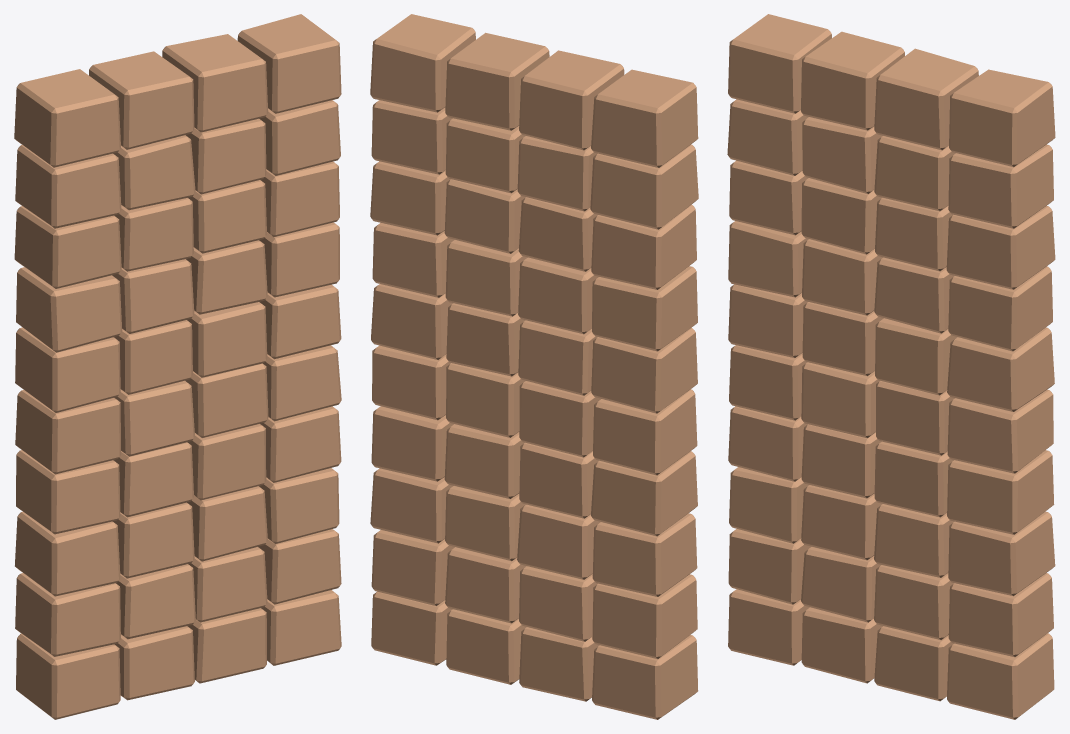
The model's file is wall_mud_brick_complete.glb.
3 views of the same model, side by side, from view 1: azimuth 30°, elevation 25°; view 2: azimuth 150°, elevation 25°; view 3: azimuth 330°, elevation 25° (orthographic).
Parts seen in each view (by area): view 1: wall_mud_brick_complete; view 2: wall_mud_brick_complete; view 3: wall_mud_brick_complete.
Part boxes in pixels (bbox=[...]): wall_mud_brick_complete: bbox=[14, 14, 341, 719]; wall_mud_brick_complete: bbox=[370, 14, 698, 719]; wall_mud_brick_complete: bbox=[727, 14, 1055, 719].
Size of the model in its own units: 0.9943 by 2 by 0.2468.
